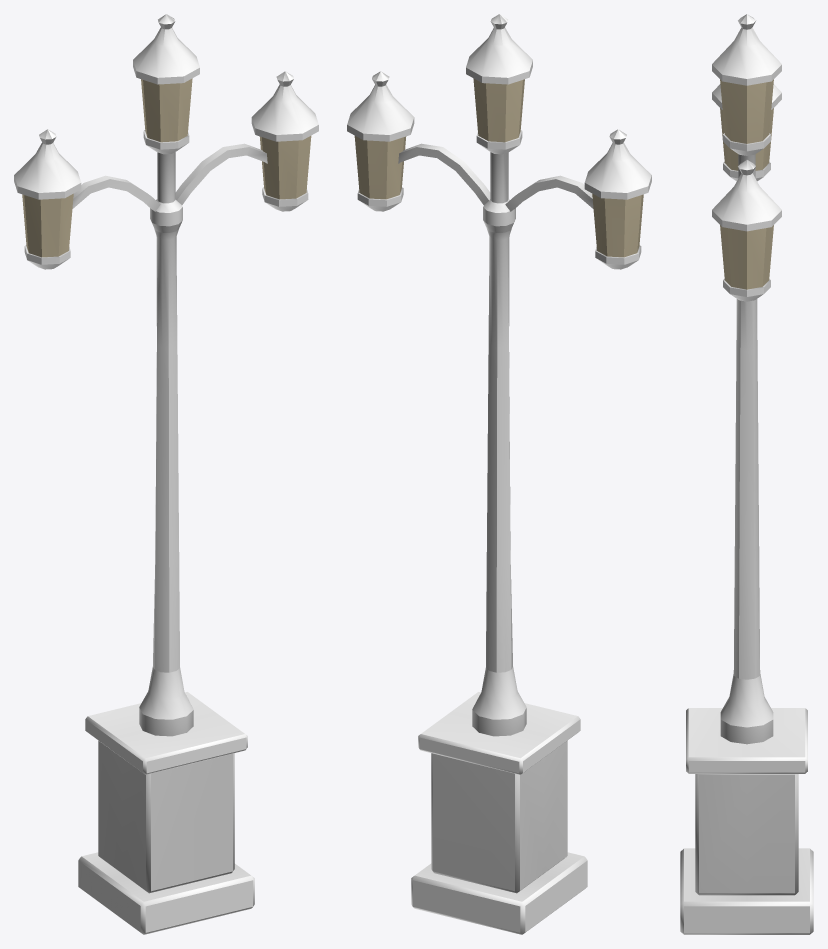
The model's file is lamp.glb.
3 renders of one model, left to right at view 1: azimuth 30°, elevation 25°; view 2: azimuth 150°, elevation 25°; view 3: azimuth 270°, elevation 25°, orthographic.
Parts seen in each view (by area): view 1: lamp_CL_Stone, lamp_CL_Fabric, lamp_CL_Glow; view 2: lamp_CL_Stone, lamp_CL_Fabric, lamp_CL_Glow; view 3: lamp_CL_Stone, lamp_CL_Fabric, lamp_CL_Glow.
Part boxes in pixels (box(x1,y1,x2,y2)): lamp_CL_Stone: box(78, 692, 254, 934); lamp_CL_Fabric: box(14, 14, 318, 736); lamp_CL_Glow: box(22, 78, 311, 257); lamp_CL_Stone: box(411, 692, 587, 934); lamp_CL_Fabric: box(347, 14, 651, 736); lamp_CL_Glow: box(354, 78, 643, 257); lamp_CL_Stone: box(680, 708, 813, 934); lamp_CL_Fabric: box(712, 14, 781, 744); lamp_CL_Glow: box(720, 79, 773, 289).
Size of the model in its own units: 1.88 by 5.34 by 0.72.
